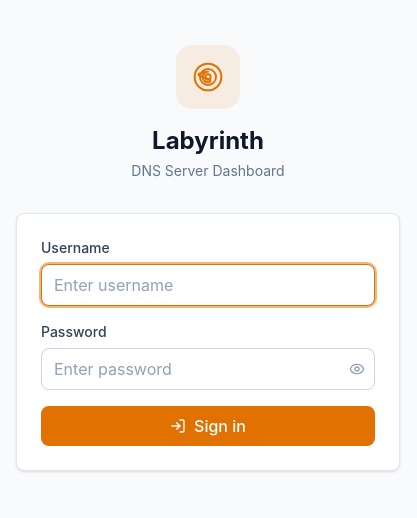
LoginPage › shows an error message when login fails
Type "admin" into the field labelled "Username" at (208, 285), box [41,264,375,306]
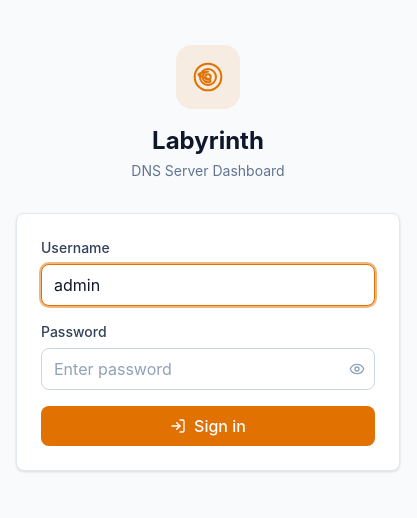
Type "wrongpass" into the password field labelled "Password" at (208, 369), box [41,348,375,390]
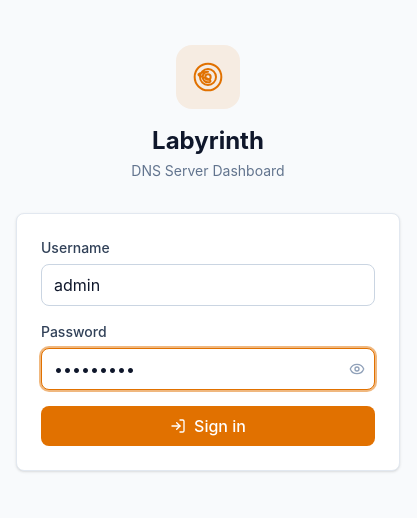
Click the button "Sign in" at (208, 426), box [41,406,375,446]
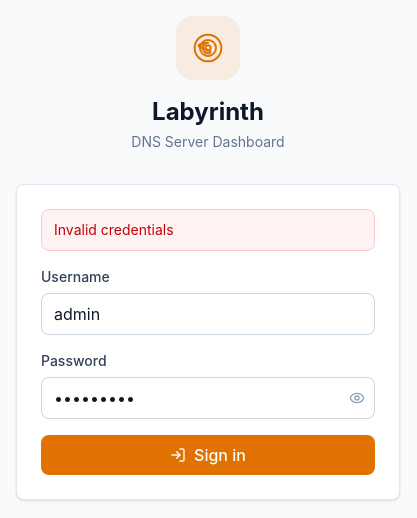
Expected: the text "Invalid credentials" is shown, [41,209,375,251]
